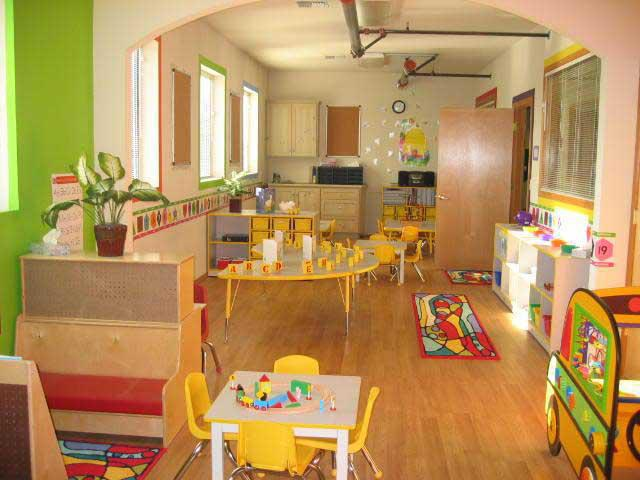Otro Obstaculo: (542, 284, 632, 472)
Puerta: (439, 106, 506, 275)
